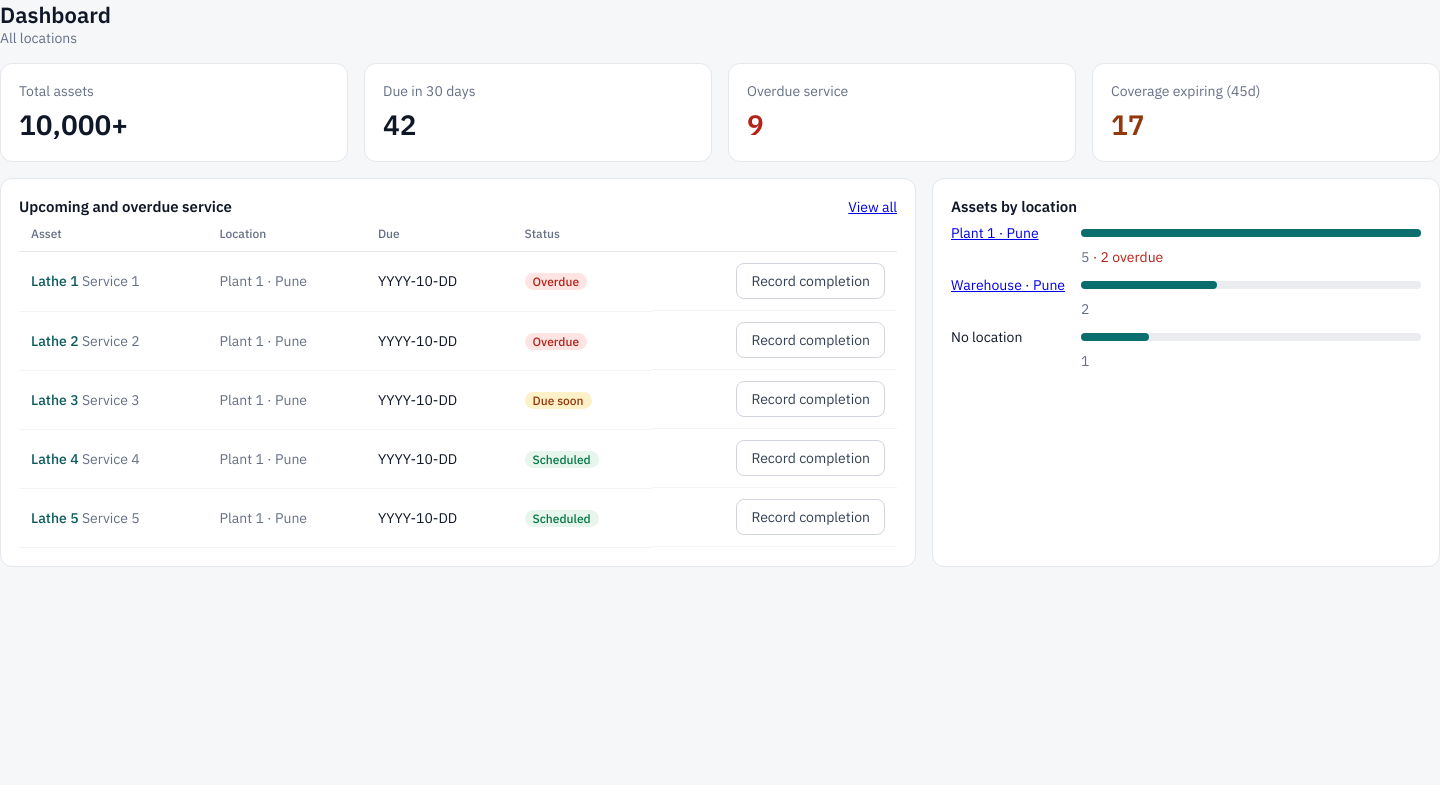
Test: upcoming: overdue, then due soon, then scheduled, five at most; Record completion refreshes it
Expected: the row that starts with "Lathe 3" shows "Plant 1 · Pune", left=220, top=390, right=307, bottom=408
Expected: the text with class "tag" reads "Due soon", left=532, top=392, right=584, bottom=408
Click the button "Record completion" in the row of "Lathe 1": point(811, 281) left=736, top=263, right=885, bottom=299
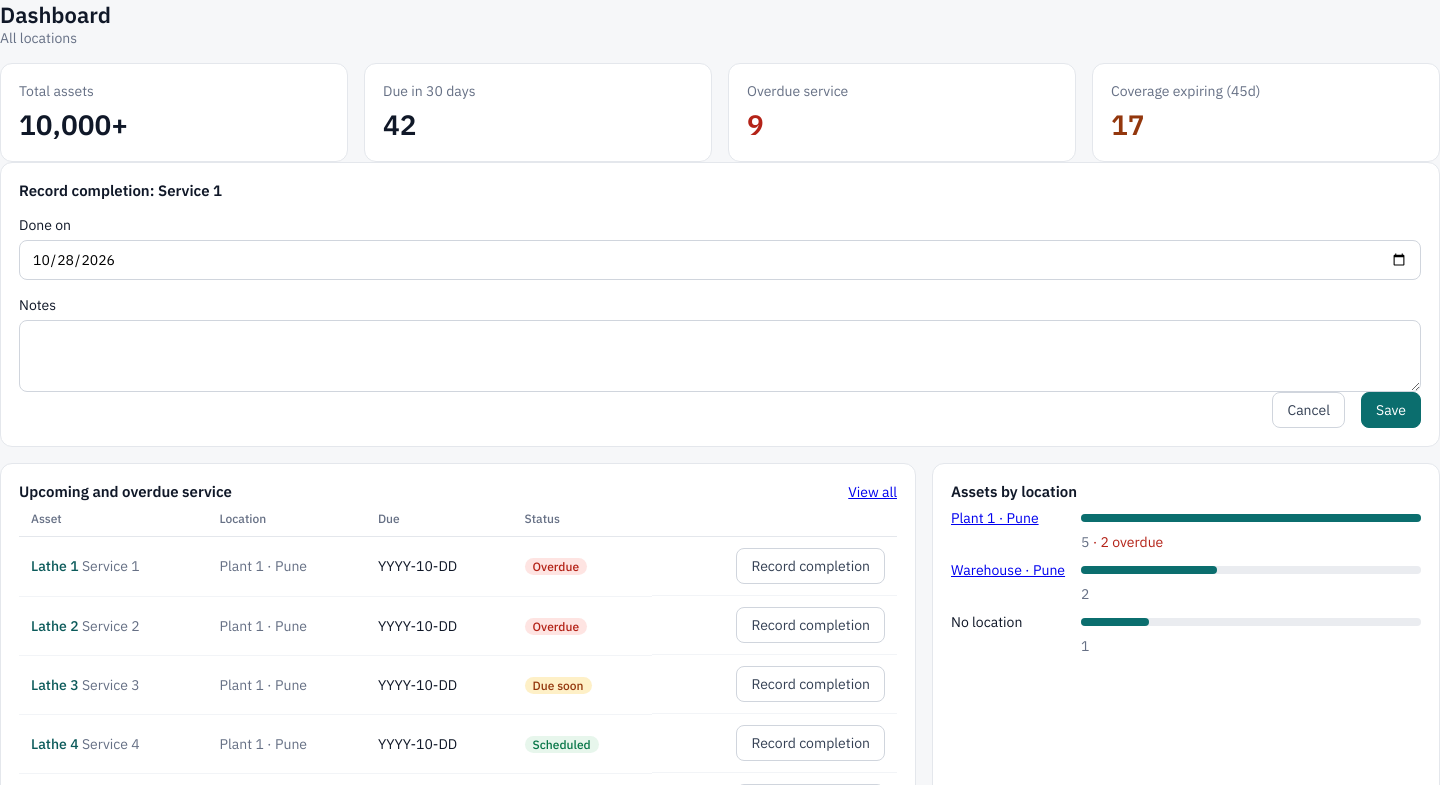
Submit the form, box left=0, top=162, right=1439, bottom=447
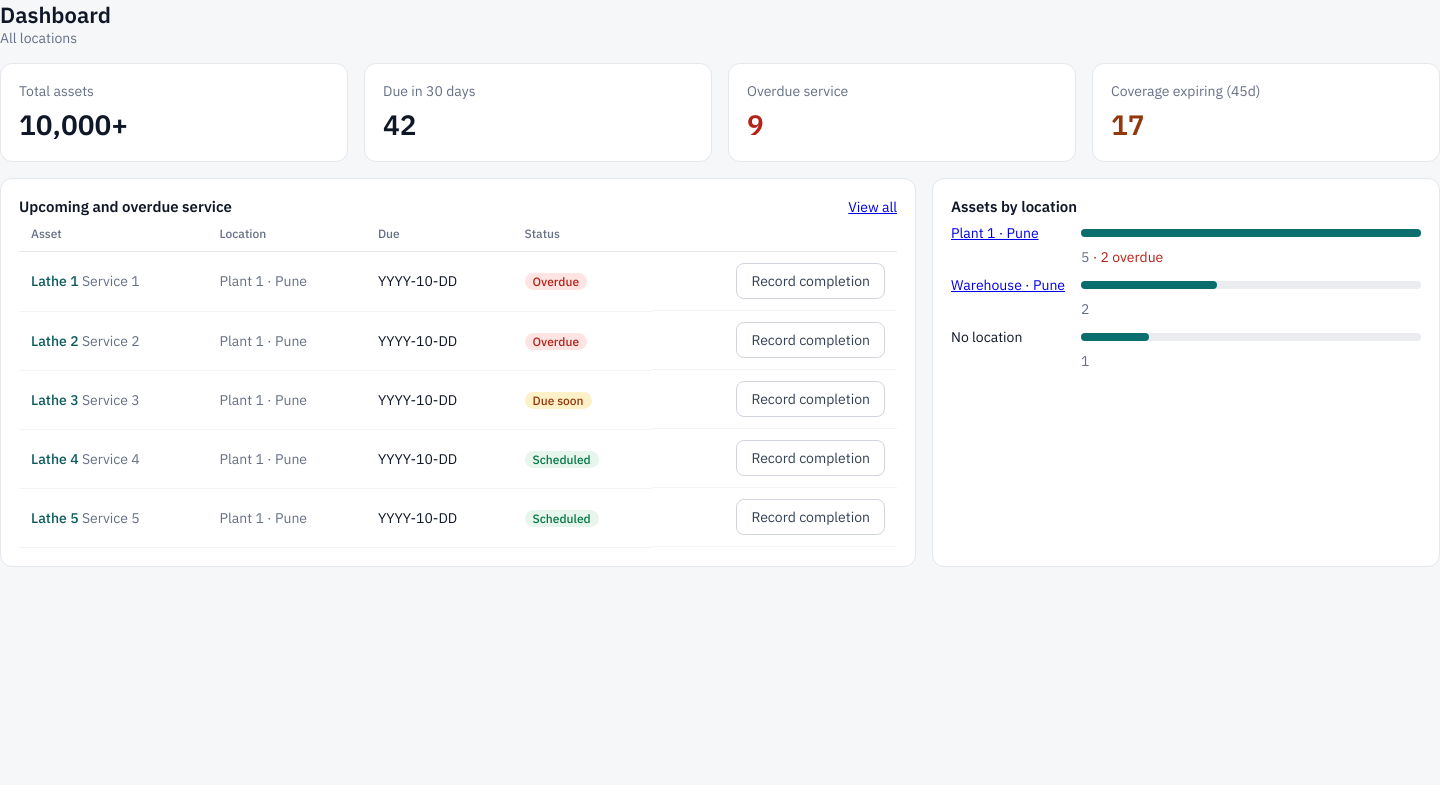
Result: the form is gone
